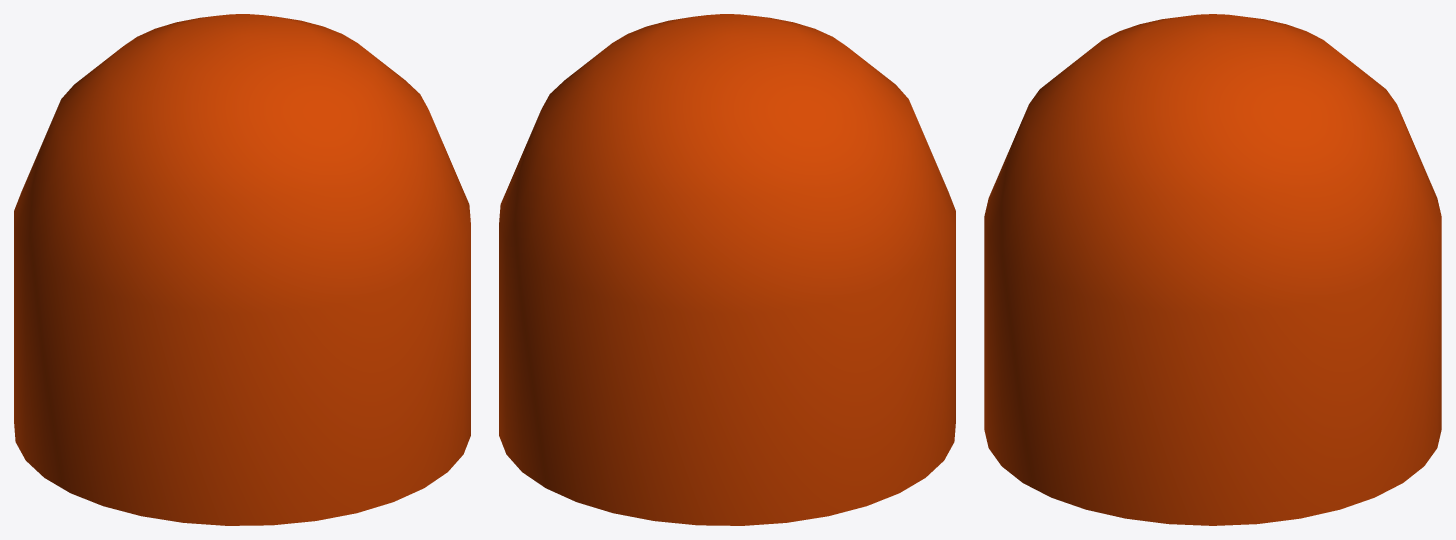
Rendered from 12cal_bullet.fbx.
3 renders of one model, left to right at view 1: azimuth 30°, elevation 25°; view 2: azimuth 150°, elevation 25°; view 3: azimuth 270°, elevation 25°, orthographic.
Visible parts, largest first — view 1: Cylinder; view 2: Cylinder; view 3: Cylinder.
Boxes of the visible parts, x1,y1,x2,y2 form: Cylinder: (14,14,470,525); Cylinder: (499,14,955,525); Cylinder: (984,14,1441,525).
Bounding box in the file's own units: 1.77 × 1.68 × 1.77.
